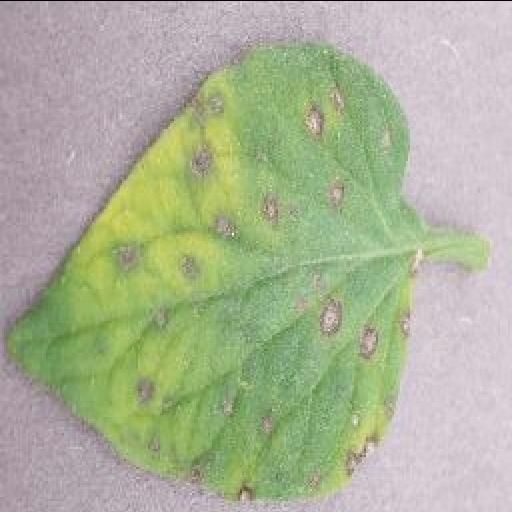disease_tomato: (8, 38, 412, 494)
